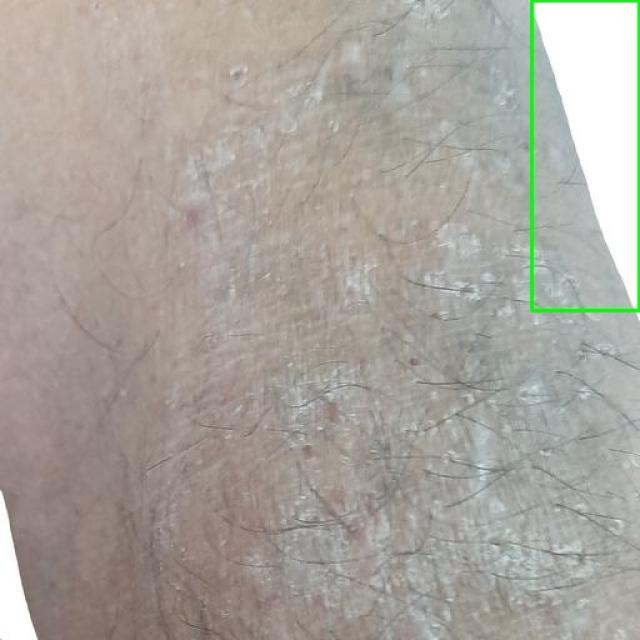Contact Dermatitis: (531, 0, 639, 311)
